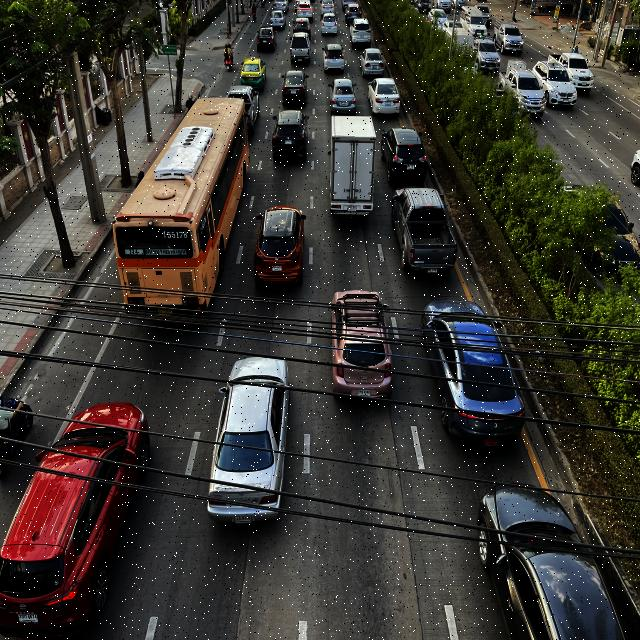bus: (109, 95, 251, 328)
car: (0, 395, 153, 640), (206, 346, 291, 529)
truck: (326, 108, 378, 229)
